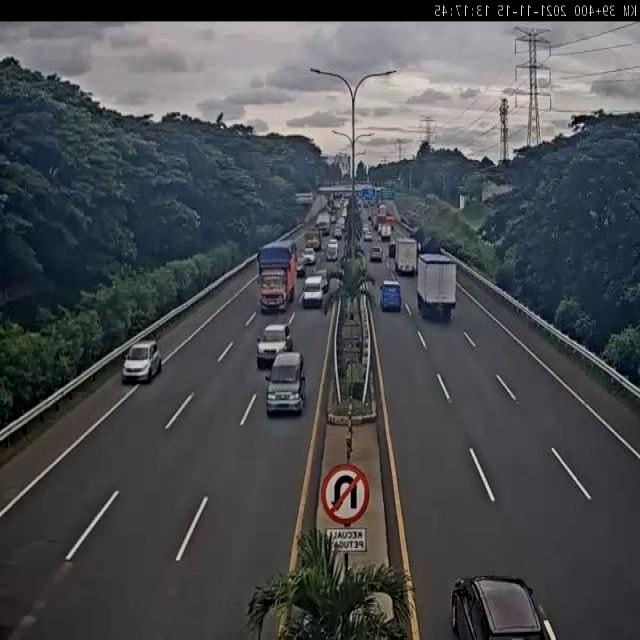Car: (448, 575, 554, 638), (264, 353, 307, 419), (122, 340, 162, 384), (256, 323, 294, 368), (302, 248, 316, 266), (364, 229, 373, 241)
Truck: (256, 242, 296, 314), (416, 252, 456, 319), (395, 238, 418, 278), (318, 214, 330, 236)
Van: (302, 274, 326, 309), (379, 281, 402, 312), (369, 245, 383, 262)
